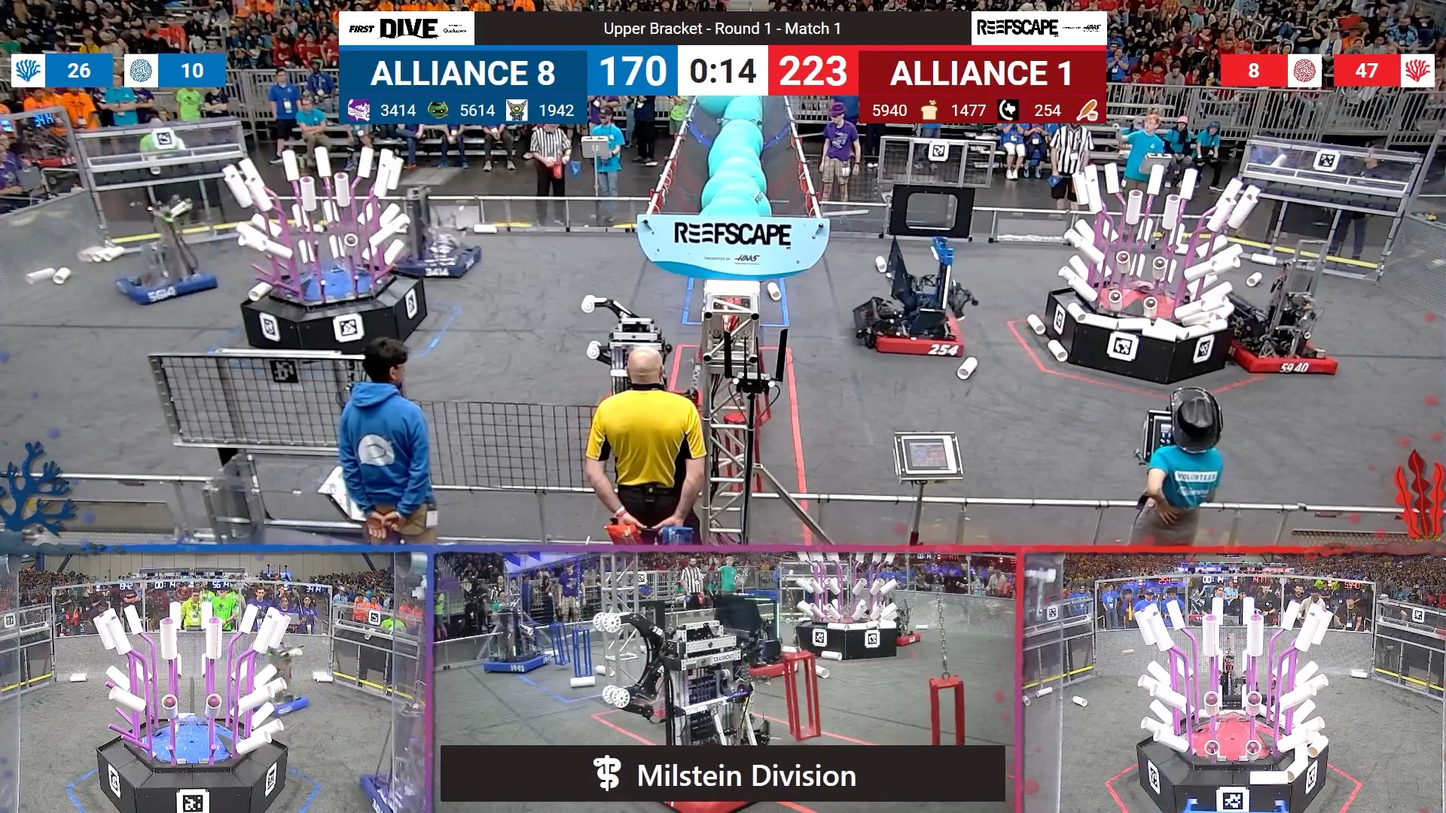bumpers: (858, 300, 976, 366), (1220, 324, 1349, 384), (113, 265, 227, 308), (388, 240, 491, 280), (743, 652, 810, 682), (477, 652, 551, 679), (254, 691, 314, 721), (883, 627, 922, 647)
